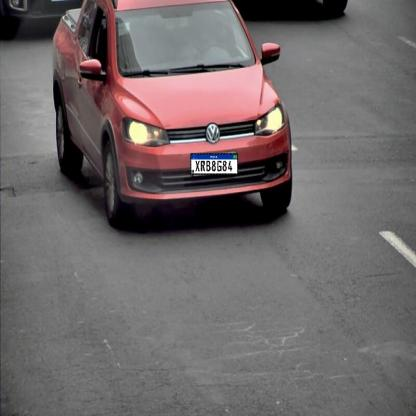PlacaM: (190, 153, 238, 175)
